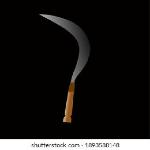Celurit: (28, 9, 106, 109)
